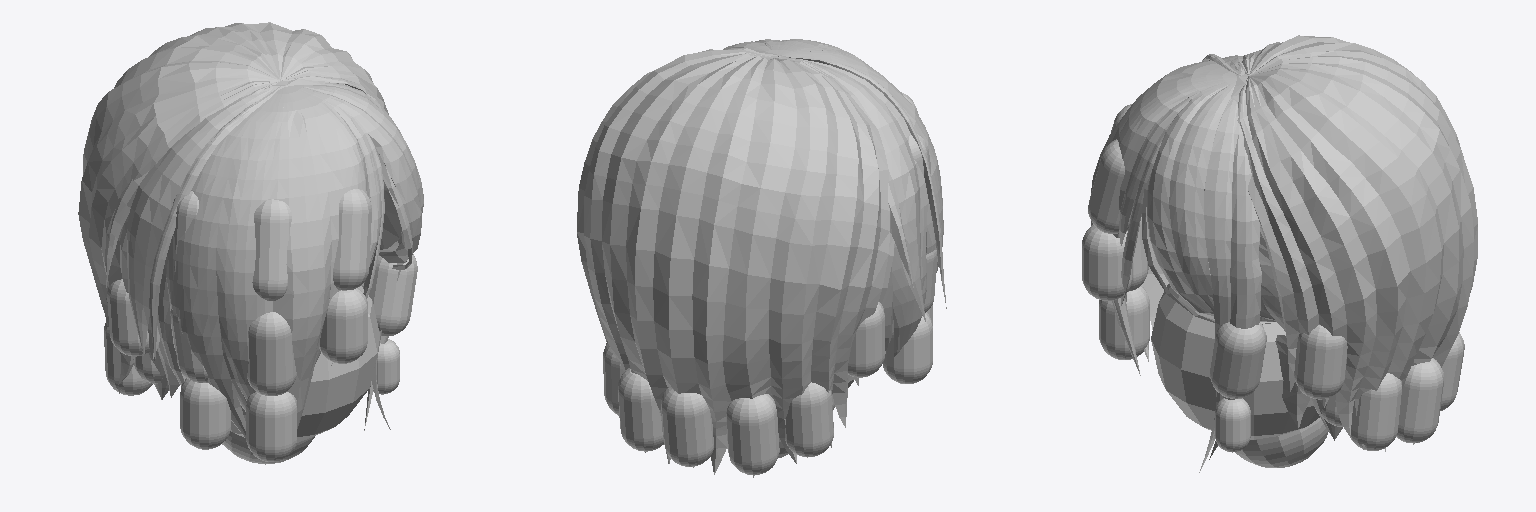
Rendered from ShortHair.obj.
The picture shows the model from 3 angles: view 1: azimuth 30°, elevation 25°; view 2: azimuth 150°, elevation 25°; view 3: azimuth 270°, elevation 25°; orthographic projection.
Visible parts, largest first — view 1: 妹抖_mesh_妹抖, 頭_Sphere, _yure_hair_f_h_02b_Capsule.004, _yure_hair_f_h_02a_Capsule.003, _yure_hair_f_02c_Capsule.005, _yure_hair_f_h_03a_Capsule.001, _yure_hair_f_h_03b_Capsule.002, _yure_hair_f_h50_01c_Capsule.008, _yure_hair_f_h_04a_Capsule.009, _yure_hair_h50_07a_Capsule.017, _yure_hair_h50_05a_Capsule.018, _yure_hair_f_h_01b_Capsule.007 (+3 smaller); view 2: 妹抖_mesh_妹抖, _yure_hair_h50_03a_Capsule.019, _yure_hair_h50_01a_Capsule.014, _yure_hair_h50_05a_Capsule.018, _yure_hair_h50_02a_Capsule.013, _yure_hair_f_h50_01c_Capsule.008, _yure_hair_h50_07a_Capsule.017, _yure_hair_h50_04a_Capsule.012, _yure_hair_f_h_01b_Capsule.007; view 3: 妹抖_mesh_妹抖, 頭_Sphere, _yure_hair_f_h_04a_Capsule.009, _yure_hair_h50_06a_Capsule.011, _yure_hair_h50_02a_Capsule.013, _yure_hair_h50_04a_Capsule.012, _yure_hair_f_h_03b_Capsule.002, 首_Capsule, _yure_hair_f_02c_Capsule.005, _yure_hair_f_h_03a_Capsule.001, _yure_hair_f_h50_04b_Capsule.010, _yure_hair_h50_01a_Capsule.014 (+1 smaller).
Boxes of the visible parts, <box> form: 妹抖_mesh_妹抖: <box>78,22,423,437</box>; 頭_Sphere: <box>230,286,379,442</box>; _yure_hair_f_h_02b_Capsule.004: <box>247,312,296,395</box>; _yure_hair_f_h_02a_Capsule.003: <box>252,199,291,300</box>; _yure_hair_f_02c_Capsule.005: <box>246,392,296,461</box>; _yure_hair_f_h_03a_Capsule.001: <box>333,189,371,290</box>; _yure_hair_f_h_03b_Capsule.002: <box>319,288,367,363</box>; _yure_hair_f_h50_01c_Capsule.008: <box>180,378,230,449</box>; _yure_hair_f_h_04a_Capsule.009: <box>363,254,417,335</box>; _yure_hair_h50_07a_Capsule.017: <box>107,279,150,356</box>; _yure_hair_h50_05a_Capsule.018: <box>104,320,152,395</box>; _yure_hair_f_h_01b_Capsule.007: <box>170,309,207,382</box>; 妹抖_mesh_妹抖: <box>577,39,946,477</box>; _yure_hair_h50_03a_Capsule.019: <box>726,394,779,474</box>; _yure_hair_h50_01a_Capsule.014: <box>661,387,713,466</box>; _yure_hair_h50_05a_Capsule.018: <box>785,382,833,457</box>; _yure_hair_h50_02a_Capsule.013: <box>618,368,663,451</box>; _yure_hair_f_h50_01c_Capsule.008: <box>883,312,932,383</box>; _yure_hair_h50_07a_Capsule.017: <box>848,302,885,377</box>; _yure_hair_h50_04a_Capsule.012: <box>603,341,623,415</box>; _yure_hair_f_h_01b_Capsule.007: <box>922,250,937,315</box>; 妹抖_mesh_妹抖: <box>1091,35,1477,472</box>; 頭_Sphere: <box>1151,284,1319,439</box>; _yure_hair_f_h_04a_Capsule.009: <box>1210,322,1266,398</box>; _yure_hair_h50_06a_Capsule.011: <box>1294,325,1347,399</box>; _yure_hair_h50_02a_Capsule.013: <box>1396,358,1443,442</box>; _yure_hair_h50_04a_Capsule.012: <box>1351,373,1401,450</box>; _yure_hair_f_h_03b_Capsule.002: <box>1082,225,1132,300</box>; 首_Capsule: <box>1235,418,1328,467</box>; _yure_hair_f_02c_Capsule.005: <box>1099,286,1149,359</box>; _yure_hair_f_h_03a_Capsule.001: <box>1088,139,1133,233</box>; _yure_hair_f_h50_04b_Capsule.010: <box>1215,398,1250,452</box>; _yure_hair_h50_01a_Capsule.014: <box>1440,332,1464,410</box>.
Bounding box in the file's own units: 0.5286 × 0.6886 × 0.6125.